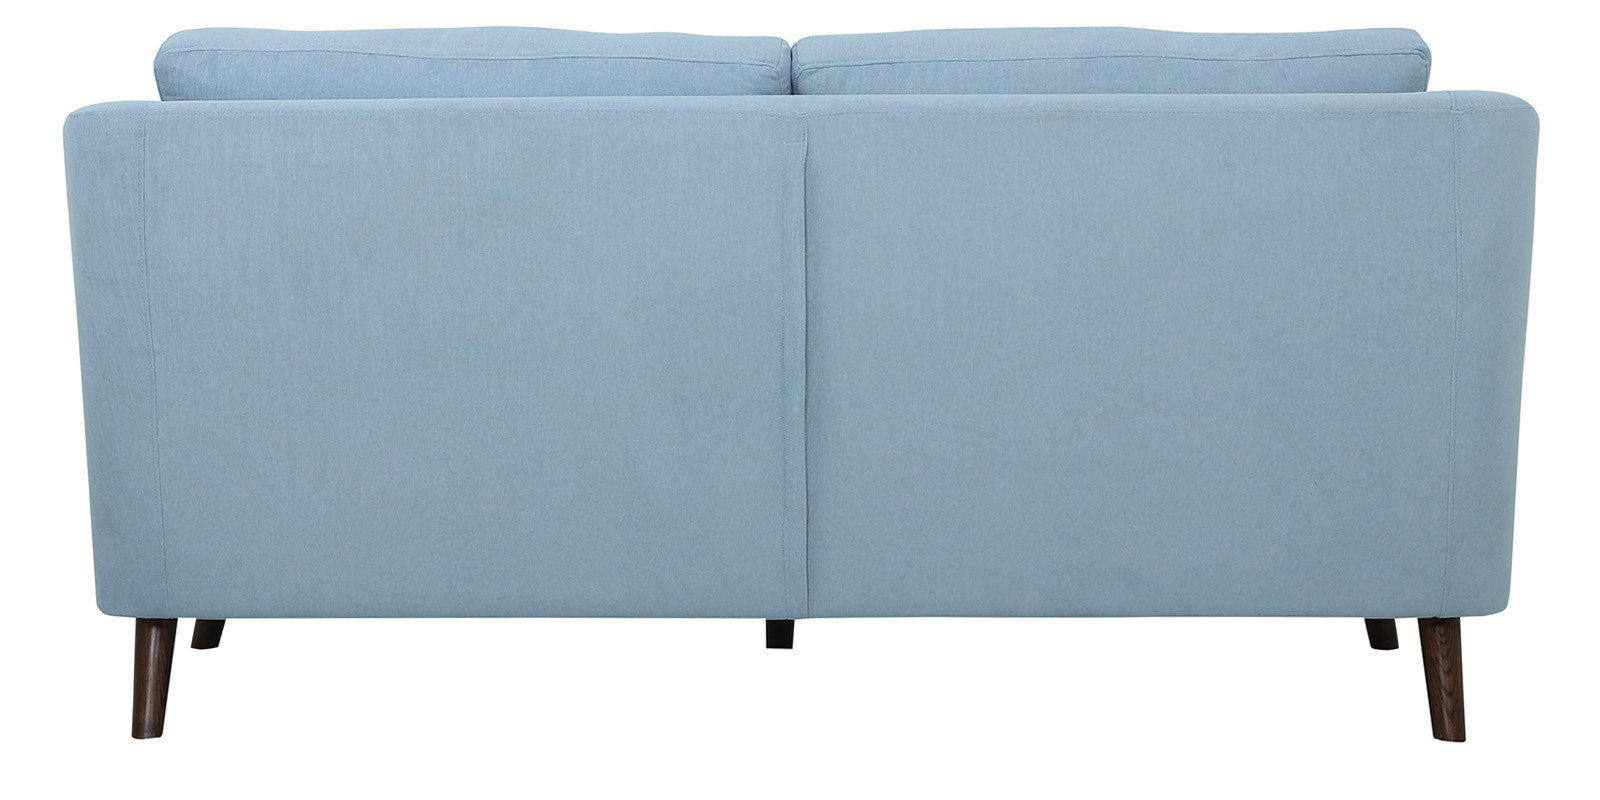Juan Three Seater Sofs in Ice Blue Colour by CasaCraft: (59, 21, 1543, 746)
